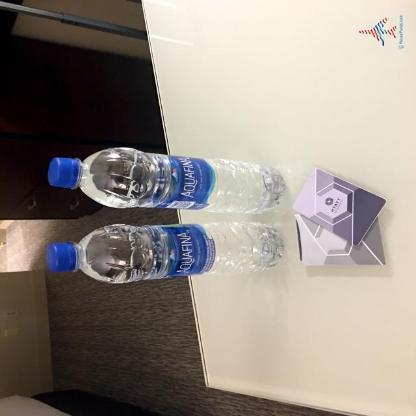Plastic Bottle: (49, 148, 286, 214), (46, 222, 284, 284)
